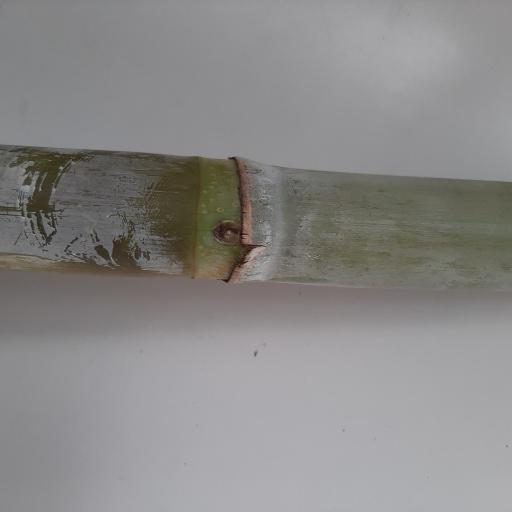Bud: (211, 221, 242, 246)
